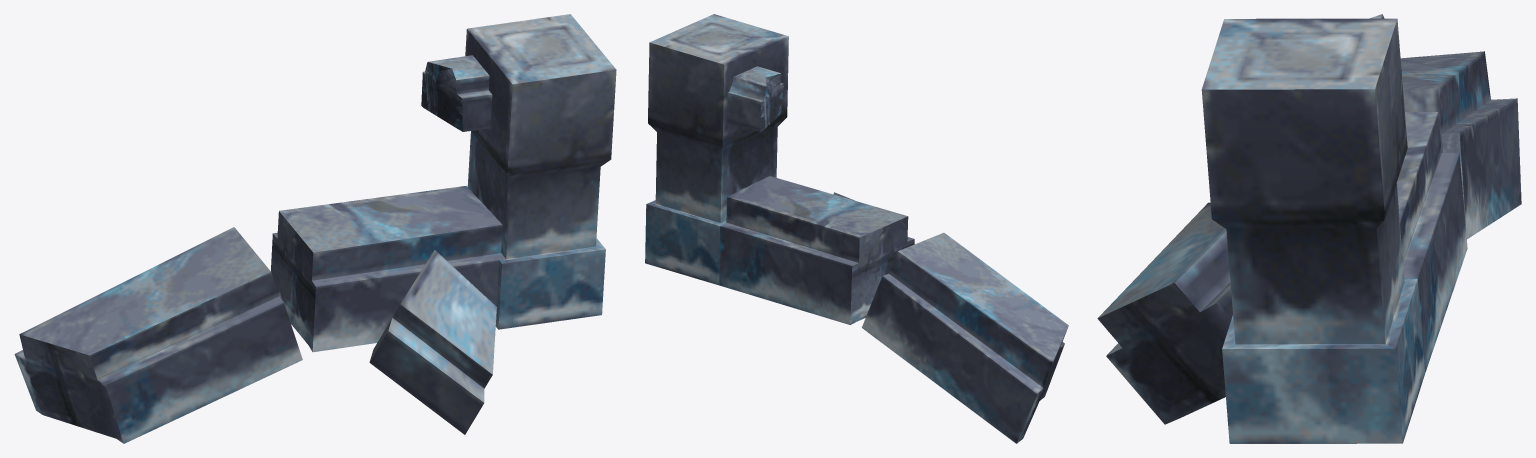
File: bs_zhalan_2.FBX
The picture shows the model from 3 angles, left to right: view 1: azimuth 30°, elevation 25°; view 2: azimuth 150°, elevation 25°; view 3: azimuth 270°, elevation 25°; orthographic projection. The views are drawn at different scales.
Parts seen in each view (by area): view 1: bs_zhalan_2; view 2: bs_zhalan_2; view 3: bs_zhalan_2.
Boxes of the visible parts, box(x1,y1,x2,y2) form: bs_zhalan_2: box(14, 14, 616, 443); bs_zhalan_2: box(645, 14, 1068, 443); bs_zhalan_2: box(1097, 14, 1521, 443).
Bounding box in the file's own units: 1781 × 1083 × 897.
